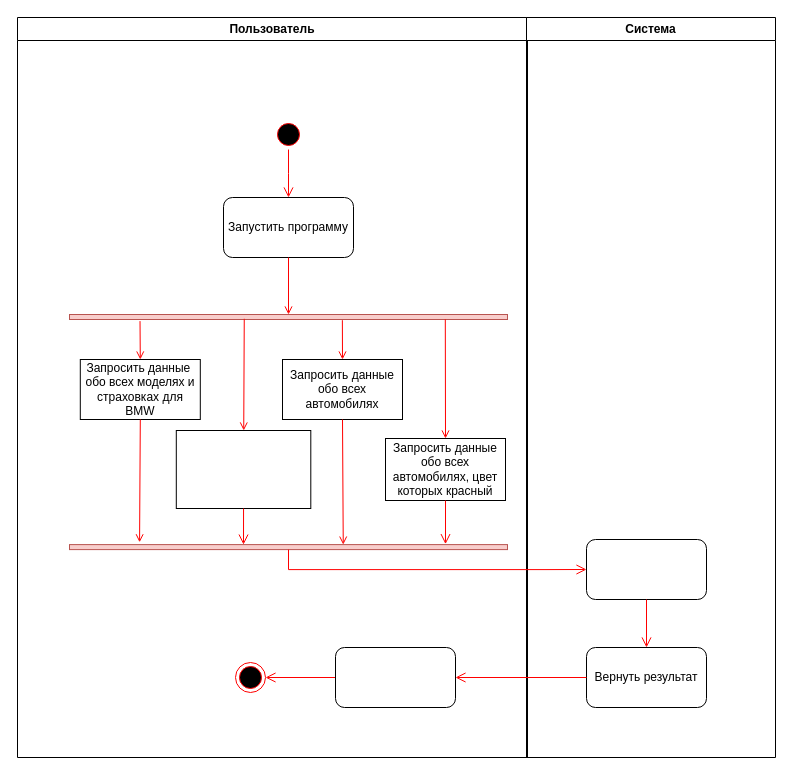
Some shapes in this 793 by 775 pixel diagram are drawn without their labels. Here are the shapes that lost their labels. From the top down, the centre of each, then its label:
At pixel 243 469: "Запросить данные об автомобилях, стоимость которых меньше 28 000".
At pixel 646 569: "Выполнить запрос".
At pixel 395 677: "Получить рузультат".
